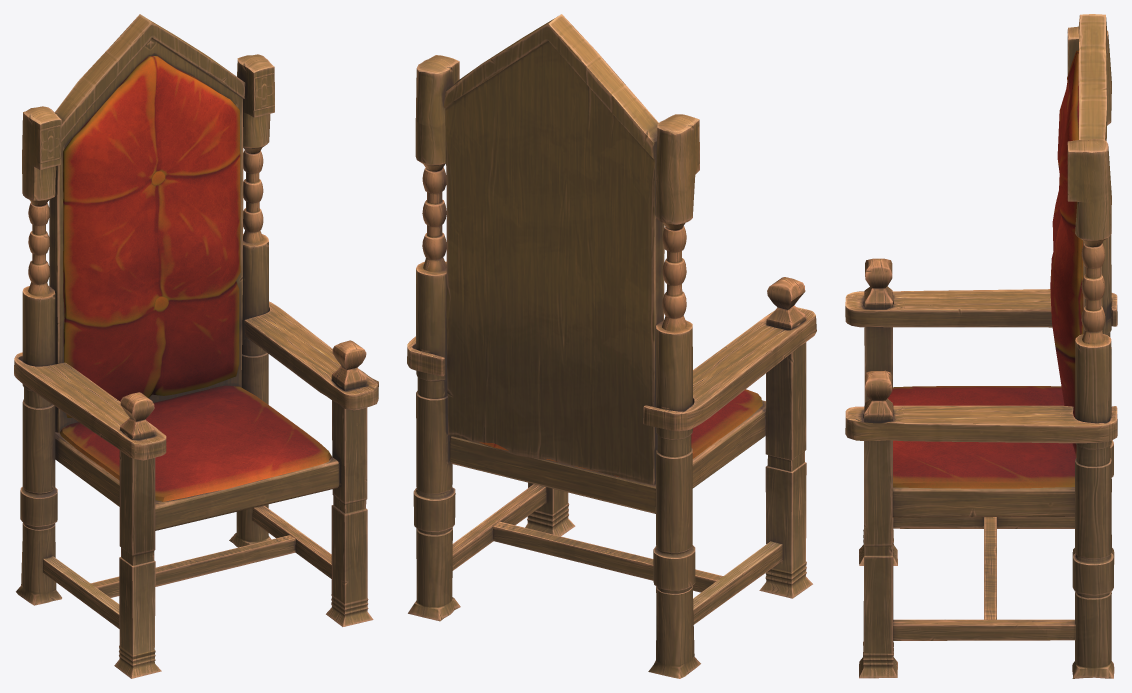
File: SM_Chair_Noble_02.fbx
3 renders of one model, left to right at view 1: azimuth 30°, elevation 25°; view 2: azimuth 150°, elevation 25°; view 3: azimuth 270°, elevation 25°, orthographic. The views are drawn at different scales.
Visible parts, largest first — view 1: SM_Chair_Noble_02_LOD0; view 2: SM_Chair_Noble_02_LOD0; view 3: SM_Chair_Noble_02_LOD0.
Part boxes in pixels (x1=…): SM_Chair_Noble_02_LOD0: x1=14, y1=14, x2=378, y2=678; SM_Chair_Noble_02_LOD0: x1=407, y1=14, x2=816, y2=678; SM_Chair_Noble_02_LOD0: x1=845, y1=14, x2=1117, y2=678.
Size of what is drawn, in the model's own units: 1.17 by 2.42 by 0.9925.
